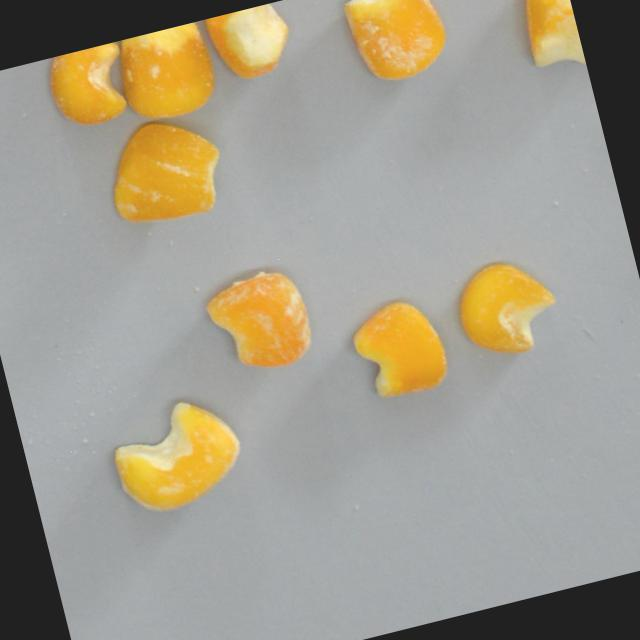no_canjicado: (111, 20, 223, 129), (201, 0, 300, 85)
no_desgerminado: (518, 0, 587, 79)
pelicula: (104, 391, 251, 523), (96, 108, 232, 234), (200, 262, 320, 382), (448, 251, 565, 366), (343, 293, 454, 406), (341, 0, 454, 90), (40, 41, 137, 135)
